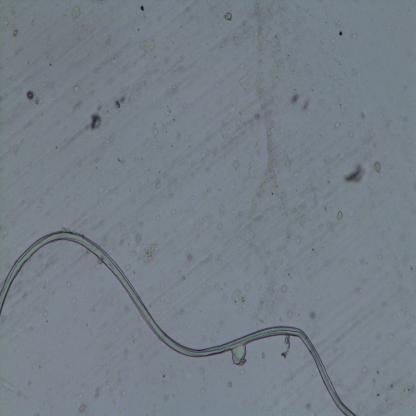Background material: (250, 4, 287, 312), (159, 105, 179, 144), (66, 76, 84, 113), (138, 38, 159, 66), (141, 243, 160, 267), (238, 70, 254, 97), (232, 282, 245, 313), (347, 165, 367, 184), (230, 349, 249, 368), (184, 242, 198, 267), (281, 335, 293, 360), (69, 4, 84, 21), (111, 94, 129, 108), (299, 95, 312, 113), (290, 90, 303, 106), (25, 89, 37, 106), (371, 158, 384, 173), (90, 116, 106, 128), (304, 310, 316, 324), (336, 208, 346, 222), (223, 10, 233, 20), (11, 28, 20, 38)
Microfibre: (0, 223, 357, 416)
